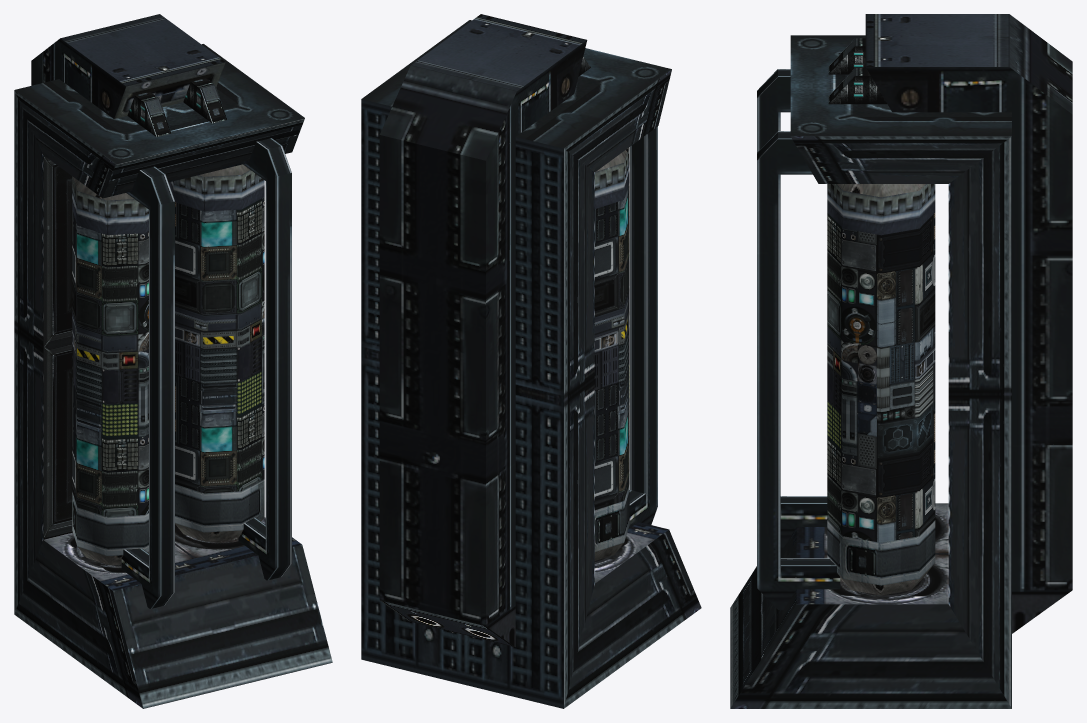
Rendered from Battery_large_03.FBX.
3 views of the same model, side by side, from view 1: azimuth 30°, elevation 25°; view 2: azimuth 150°, elevation 25°; view 3: azimuth 270°, elevation 25° (orthographic). The views are drawn at different scales.
Visible parts, largest first — view 1: Battery_large_03, Liquid; view 2: Battery_large_03, Liquid; view 3: Battery_large_03, Liquid.
Boxes of the visible parts, <box> form: Battery_large_03: <box>14,14,332,708</box>; Liquid: <box>72,197,264,516</box>; Battery_large_03: <box>361,14,701,708</box>; Liquid: <box>594,183,629,509</box>; Battery_large_03: <box>730,14,1072,708</box>; Liquid: <box>827,213,935,542</box>.
Size of the model in its own units: 141 by 402 by 202.
